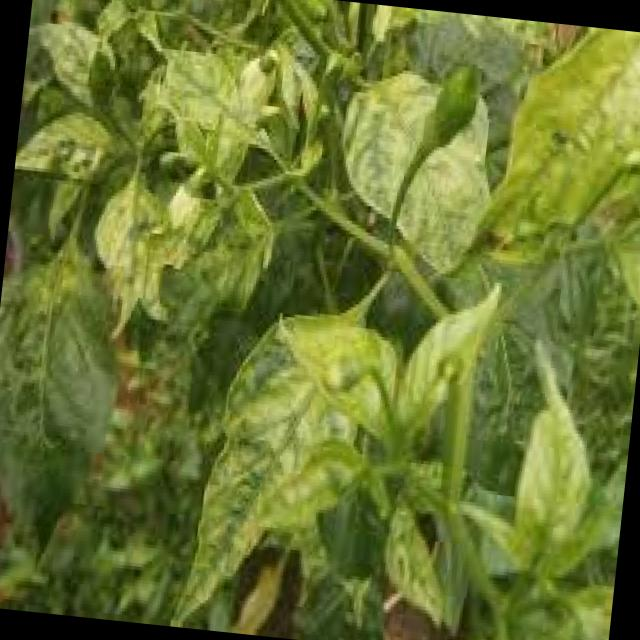Chilli_Leaf_Curl: (0, 0, 640, 640), (168, 248, 640, 640), (167, 294, 405, 640), (472, 16, 640, 274), (0, 224, 131, 552), (325, 47, 502, 280)
